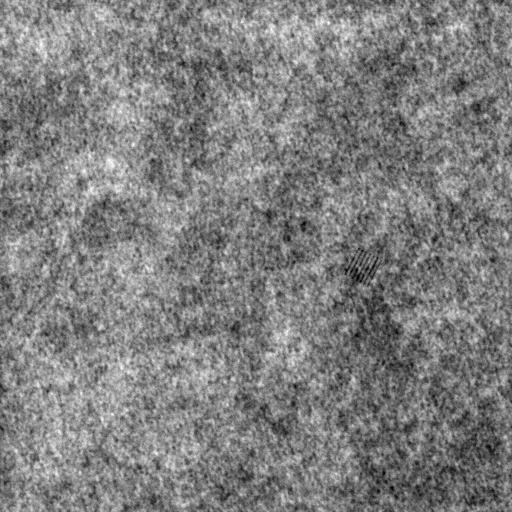DefectTypeB: (345, 249, 382, 284)
